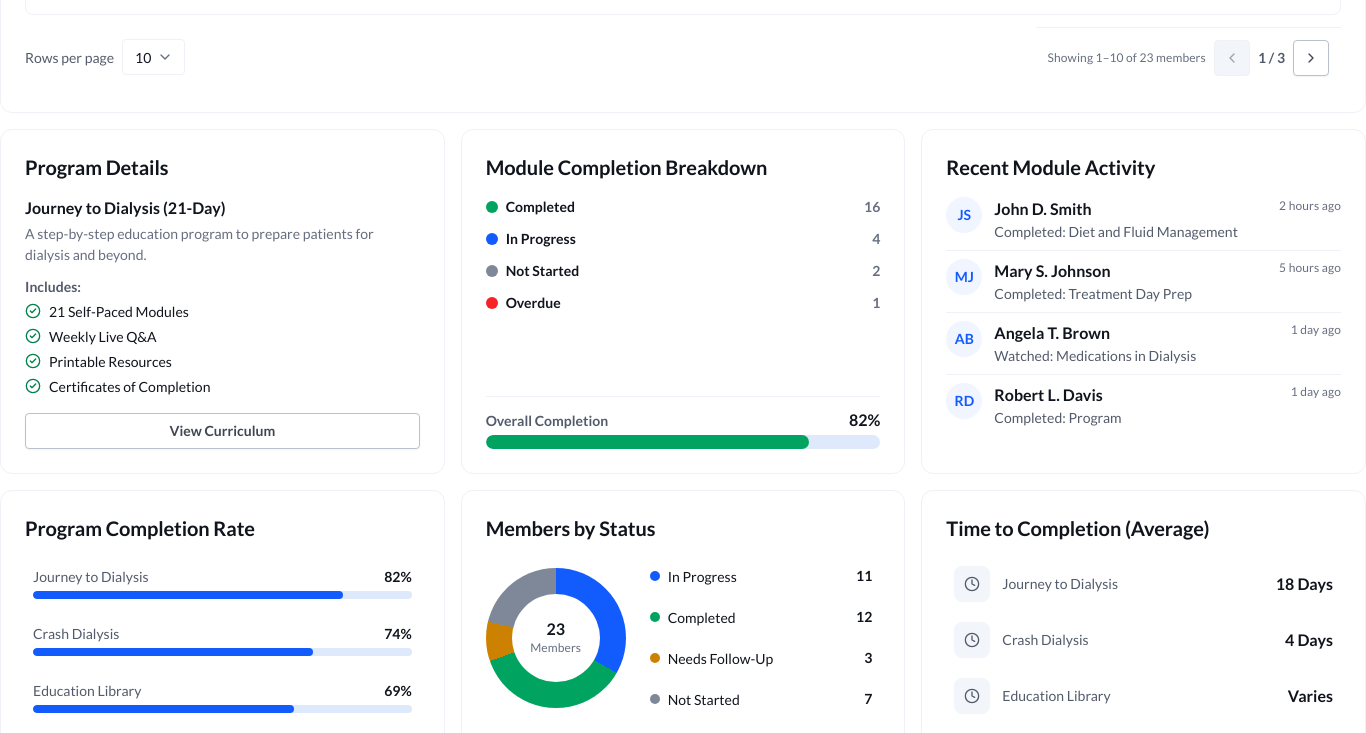
Test: a member's progress popup › opens from a name in the recent activity
The image size is (1366, 733).
(page scrolled)
Click the button "Robert L. Davis": click(1048, 395) [994,383,1103,407]
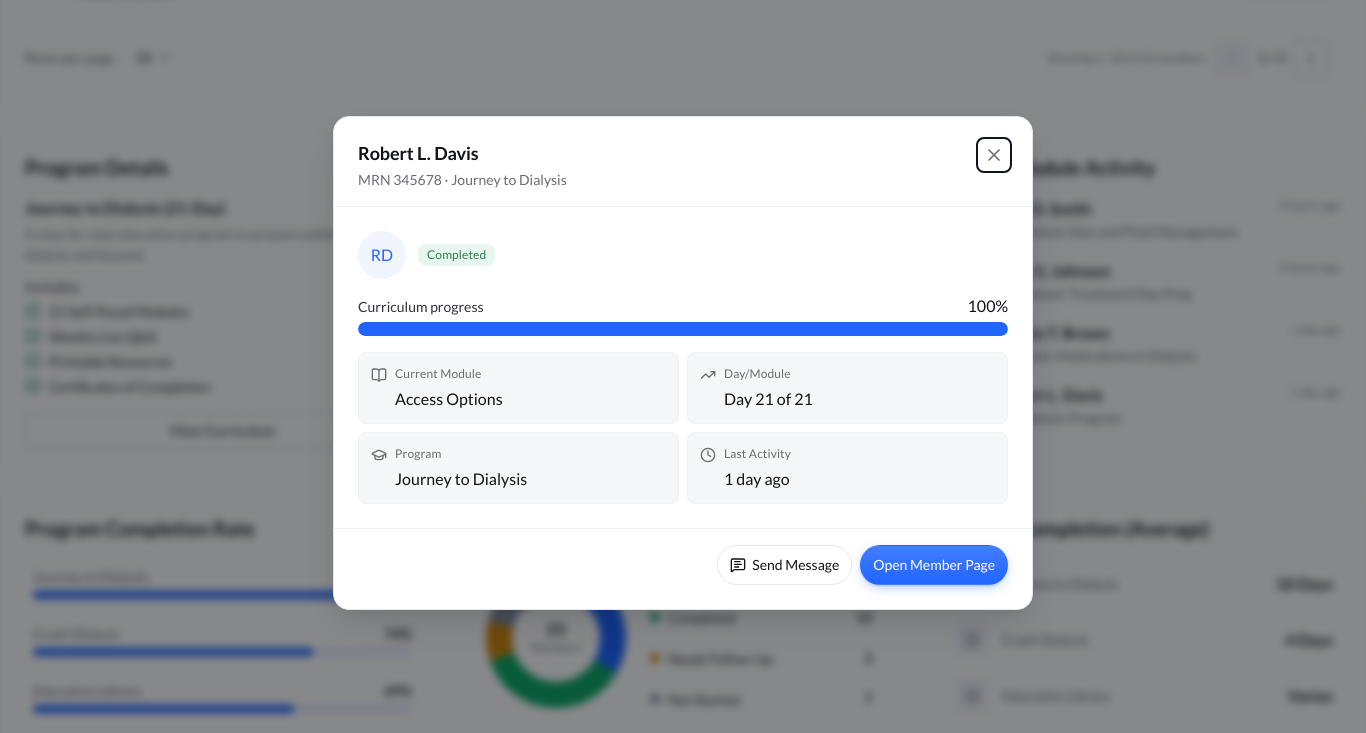
Now the dialog "Robert L. Davis" is shown, box [333,116,1033,610]
